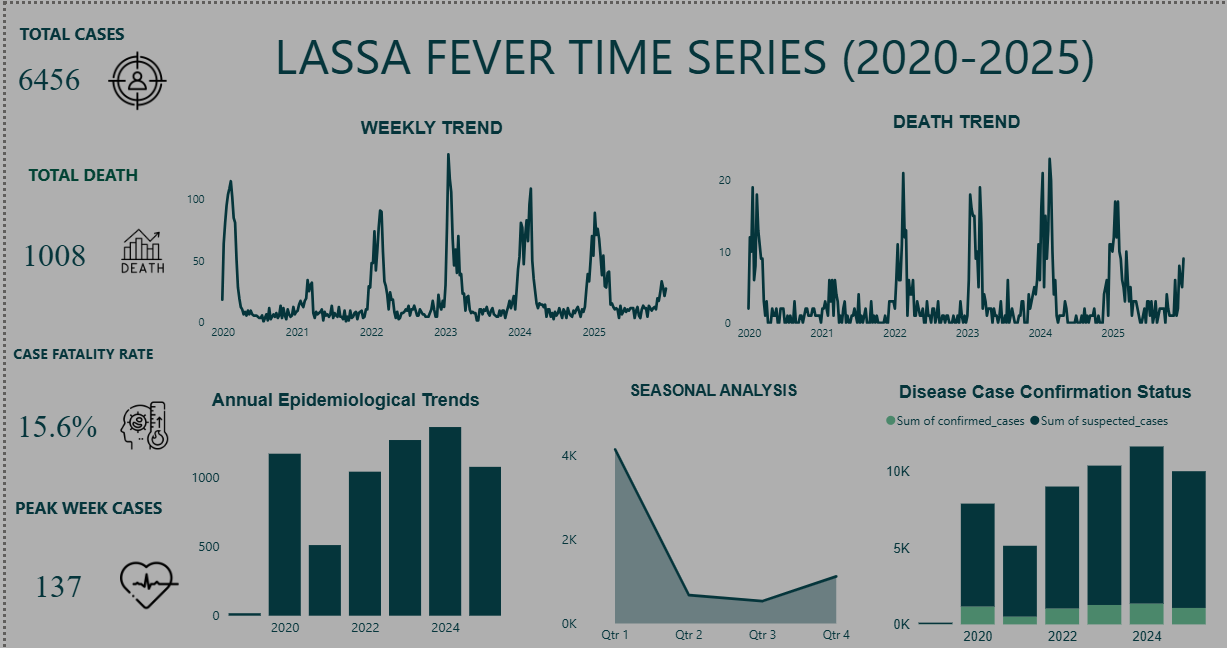

This screenshot's page, from the dashboard's own definition file:
{"tool":"powerbi","page":{"name":"Page 1","canvas":[1359,720],"ordinal":0},"visuals":[{"type":"shape","box":[191.5,0,1142.4,120.3],"z":0},{"type":"shape","box":[15,0,195,720],"z":1000},{"type":"textbox","box":[183.1,15.3,1142.4,98.3],"z":2000},{"type":"shape","box":[195.1,119.7,567.2,275.4],"z":3000},{"type":"shape","box":[762.7,120.3,574.6,274.6],"z":4000},{"type":"shape","box":[588.1,394.9,371.2,325.4],"z":5000},{"type":"shape","box":[194.9,394.9,393.2,325.4],"z":6000},{"type":"shape","box":[959.3,394.9,378,325.4],"z":7000},{"type":"image","box":[111.5,52.5,68.9,67.2],"z":8000},{"type":"textbox","box":[0,14.8,126.2,37.7],"z":9000},{"type":"card","fields":{"Values":["lassa_fever_timeseries_cleaned.Total_Cases"]},"box":[0,52.5,95.1,60.7],"z":10000},{"type":"textbox","box":[0,171.7,171.7,58.3],"z":11000},{"type":"image","box":[126.7,613.3,65,65],"z":12000},{"type":"card","fields":{"Values":["Sum(lassa_fever_timeseries_cleaned.deaths)"]},"box":[0,245,106.7,63.3],"z":13000},{"type":"textbox","box":[0,371.7,171.7,63.3],"z":14000},{"type":"card","fields":{"Values":["lassa_fever_timeseries_cleaned.Case_Fatality_Rate (%)"]},"box":[1.7,435,110,65],"z":15000},{"type":"image","box":[111.7,441.7,83.3,53.3],"z":16000},{"type":"textbox","box":[0,541.7,183.3,55],"z":17000},{"type":"image","box":[115,245,73.3,58.3],"z":18000},{"type":"card","fields":{"Values":["lassa_fever_timeseries_cleaned.Peak_Week_Cases"]},"box":[0,605,115,78.3],"z":19000},{"type":"lineChart","title":"WEEKLY TREND","fields":{"Y":["Sum(lassa_fever_timeseries_cleaned.confirmed_cases)"],"Category":["lassa_fever_timeseries_cleaned.week_start_date"]},"box":[194.9,127.1,555.9,255.9],"z":20000},{"type":"lineChart","title":"DEATH TREND","fields":{"Category":["lassa_fever_timeseries_cleaned.week_start_date"],"Y":["Sum(lassa_fever_timeseries_cleaned.deaths)"]},"box":[786.9,119.7,539.3,263.9],"z":21000},{"type":"clusteredColumnChart","title":"Annual Epidemiological Trends","fields":{"Category":["lassa_fever_timeseries_cleaned.week_start_date.Variation.Date Hierarchy.Year"],"Y":["Sum(lassa_fever_timeseries_cleaned.confirmed_cases)"]},"box":[200,428.8,371.2,284.7],"z":22000},{"type":"areaChart","title":"SEASONAL ANALYSIS","fields":{"Category":["lassa_fever_timeseries_cleaned.week_start_date.Variation.Date Hierarchy.Quarter"],"Y":["Sum(lassa_fever_timeseries_cleaned.confirmed_cases)"]},"box":[588.1,420.3,371.2,300],"z":23000},{"type":"columnChart","title":"Disease Case Confirmation Status","fields":{"Y":["Sum(lassa_fever_timeseries_cleaned.confirmed_cases)","Sum(lassa_fever_timeseries_cleaned.suspected_cases)"],"Category":["lassa_fever_timeseries_cleaned.week_start_date.Variation.Date Hierarchy.Year"]},"box":[971.2,420.3,366.1,300],"z":24000}]}

Visuals, with their boxes in screenshot pixels (x1, y1, x2, y2), scaled from the page's 1359x720 canvas onto the 1227x648 screenshot:
shape: [173,0,1204,108]
shape: [14,0,190,647]
textbox: [165,14,1197,102]
shape: [176,108,688,356]
shape: [689,108,1207,355]
shape: [531,355,866,647]
shape: [176,355,531,647]
shape: [866,355,1207,647]
image: [101,47,163,108]
textbox: [0,13,114,47]
card - lassa_fever_timeseries_cleaned.Total_Cases: [0,47,86,102]
textbox: [0,155,155,207]
image: [114,552,173,610]
card - Sum(lassa_fever_timeseries_cleaned.deaths): [0,220,96,277]
textbox: [0,335,155,392]
card - lassa_fever_timeseries_cleaned.Case_Fatality_Rate (%): [2,392,101,450]
image: [101,398,176,446]
textbox: [0,488,165,537]
image: [104,220,170,273]
card - lassa_fever_timeseries_cleaned.Peak_Week_Cases: [0,544,104,615]
"WEEKLY TREND" lineChart: [176,114,678,345]
"DEATH TREND" lineChart: [710,108,1197,345]
"Annual Epidemiological Trends" clusteredColumnChart: [181,386,516,642]
"SEASONAL ANALYSIS" areaChart: [531,378,866,647]
"Disease Case Confirmation Status" columnChart: [877,378,1207,647]
